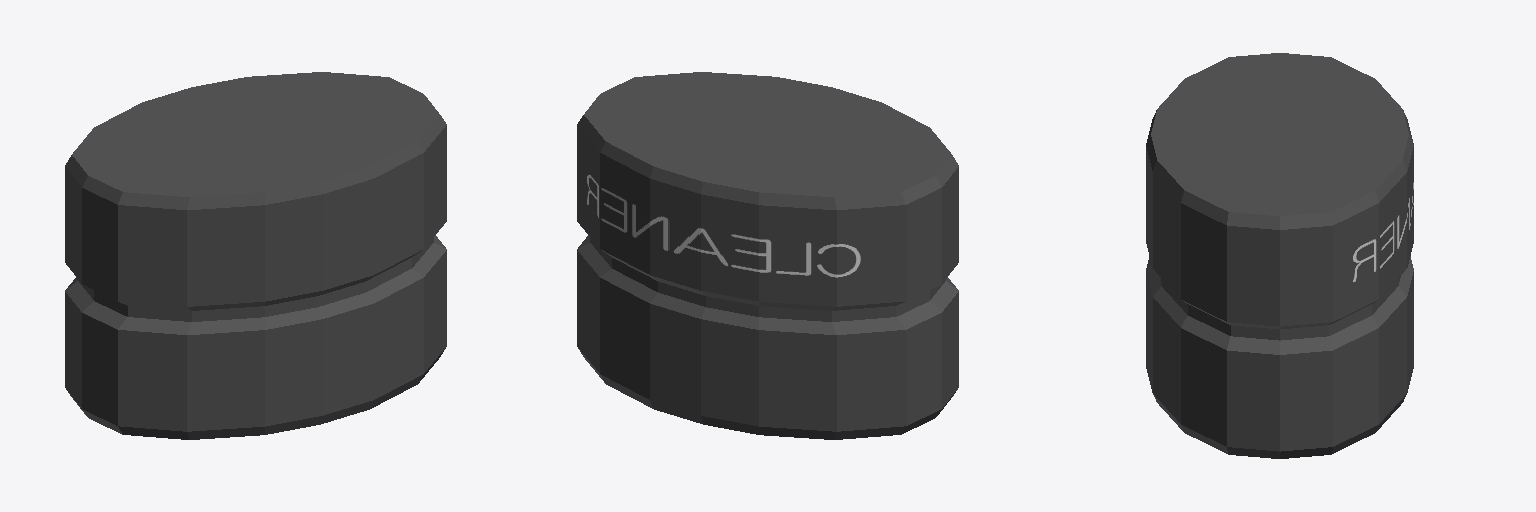
The picture shows the model from 3 angles: view 1: azimuth 30°, elevation 25°; view 2: azimuth 150°, elevation 25°; view 3: azimuth 270°, elevation 25°; orthographic projection.
Parts seen in each view (by area): view 1: 立方体; view 2: 立方体; view 3: 立方体.
Boxes of the visible parts, x1=… form: 立方体: x1=65, y1=72, x2=446, y2=439; 立方体: x1=577, y1=72, x2=958, y2=439; 立方体: x1=1146, y1=53, x2=1413, y2=458.
Size of the model in its own units: 3 by 2 by 2.
Materials: 1 (1 with a texture image).